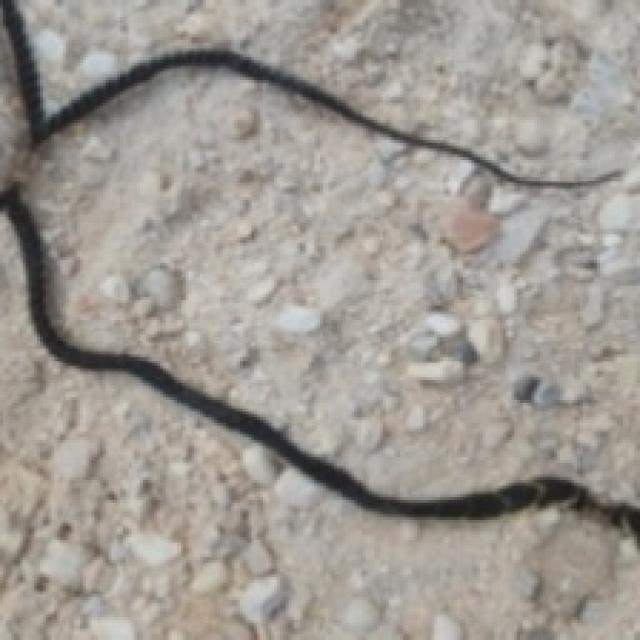king cobra: (0, 0, 637, 611), (17, 0, 637, 503), (0, 214, 637, 637)
